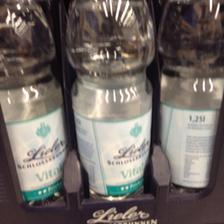Wasser: (65, 0, 153, 196), (0, 0, 66, 204), (156, 0, 223, 192)
